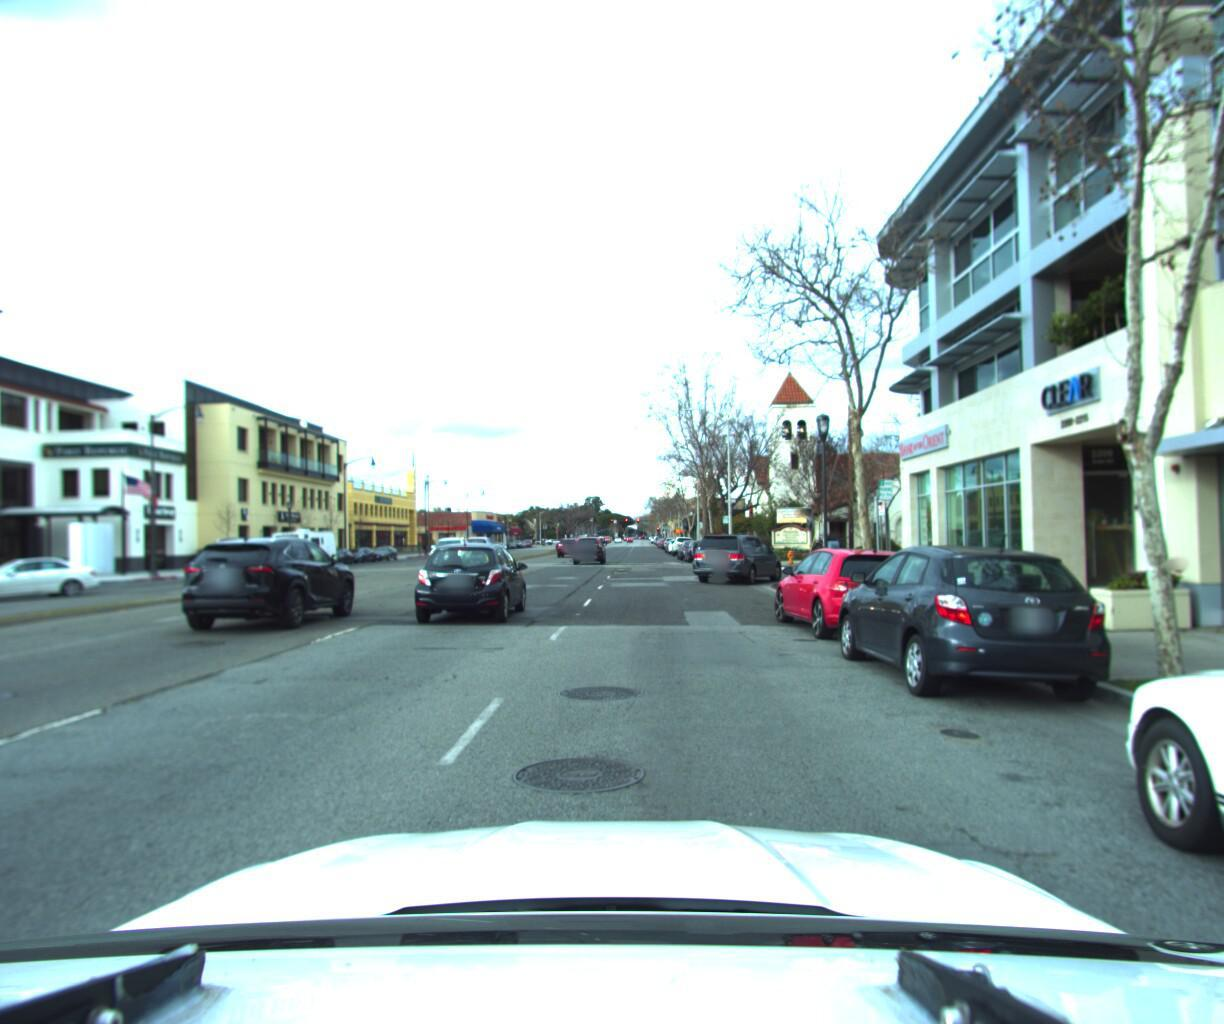car: (1081, 554, 1224, 1024), (822, 530, 1127, 705), (166, 536, 365, 636), (769, 535, 944, 641), (407, 536, 535, 627), (0, 541, 111, 604), (688, 524, 784, 580), (429, 533, 473, 563), (570, 530, 605, 560), (370, 541, 401, 558), (552, 532, 576, 553)
other_vehicle: (263, 522, 342, 567)
